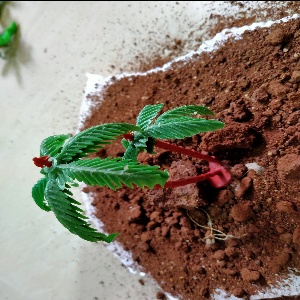plant: (30, 99, 232, 247)
